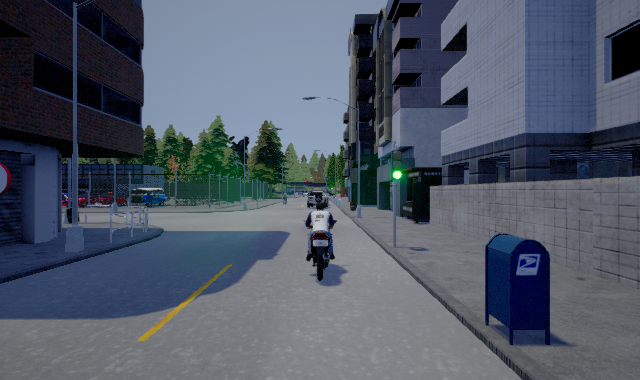motobike: (303, 205, 337, 281)
traffic_light: (391, 144, 402, 186)
traffic_sign: (1, 163, 11, 195)
vehicle: (131, 188, 166, 205), (302, 190, 329, 208)
